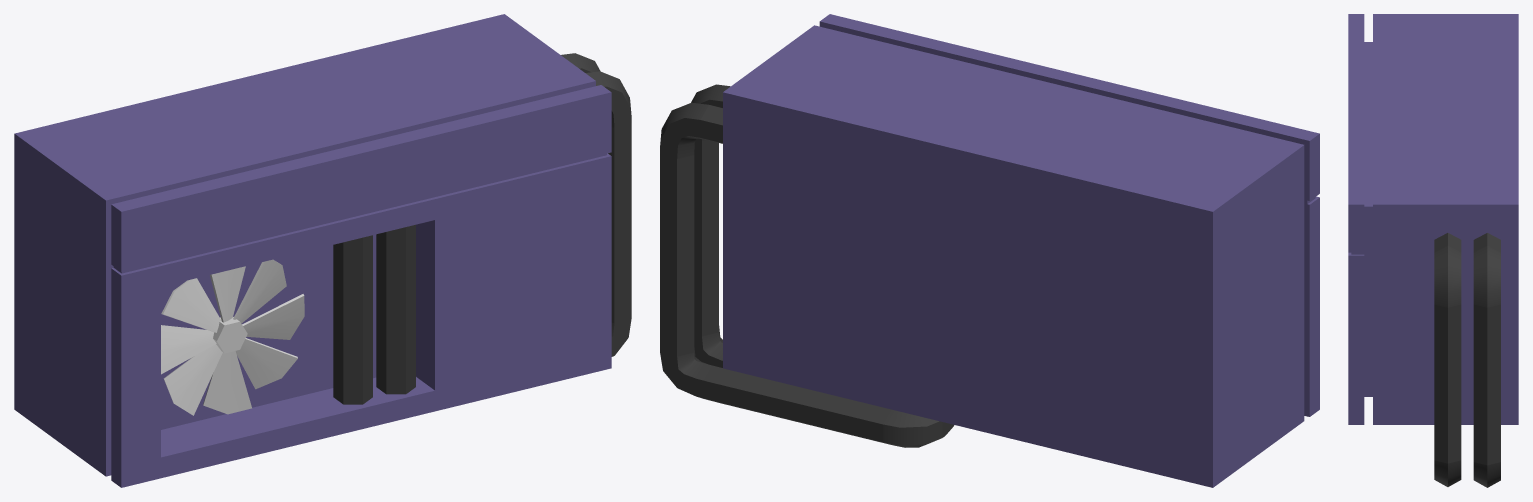
File: MD_aircon_251208.fbx
3 renders of one model, left to right at view 1: azimuth 30°, elevation 25°; view 2: azimuth 150°, elevation 25°; view 3: azimuth 270°, elevation 25°, orthographic. The views are drawn at different scales.
Parts seen in each view (by area): view 1: aircon_ketugou; view 2: aircon_ketugou; view 3: aircon_ketugou.
Boxes of the visible parts, x1,y1,x2,y2 form: aircon_ketugou: [14, 14, 631, 487]; aircon_ketugou: [660, 14, 1319, 487]; aircon_ketugou: [1348, 14, 1518, 487].
Size of the model in its own units: 412 by 227 by 133.
